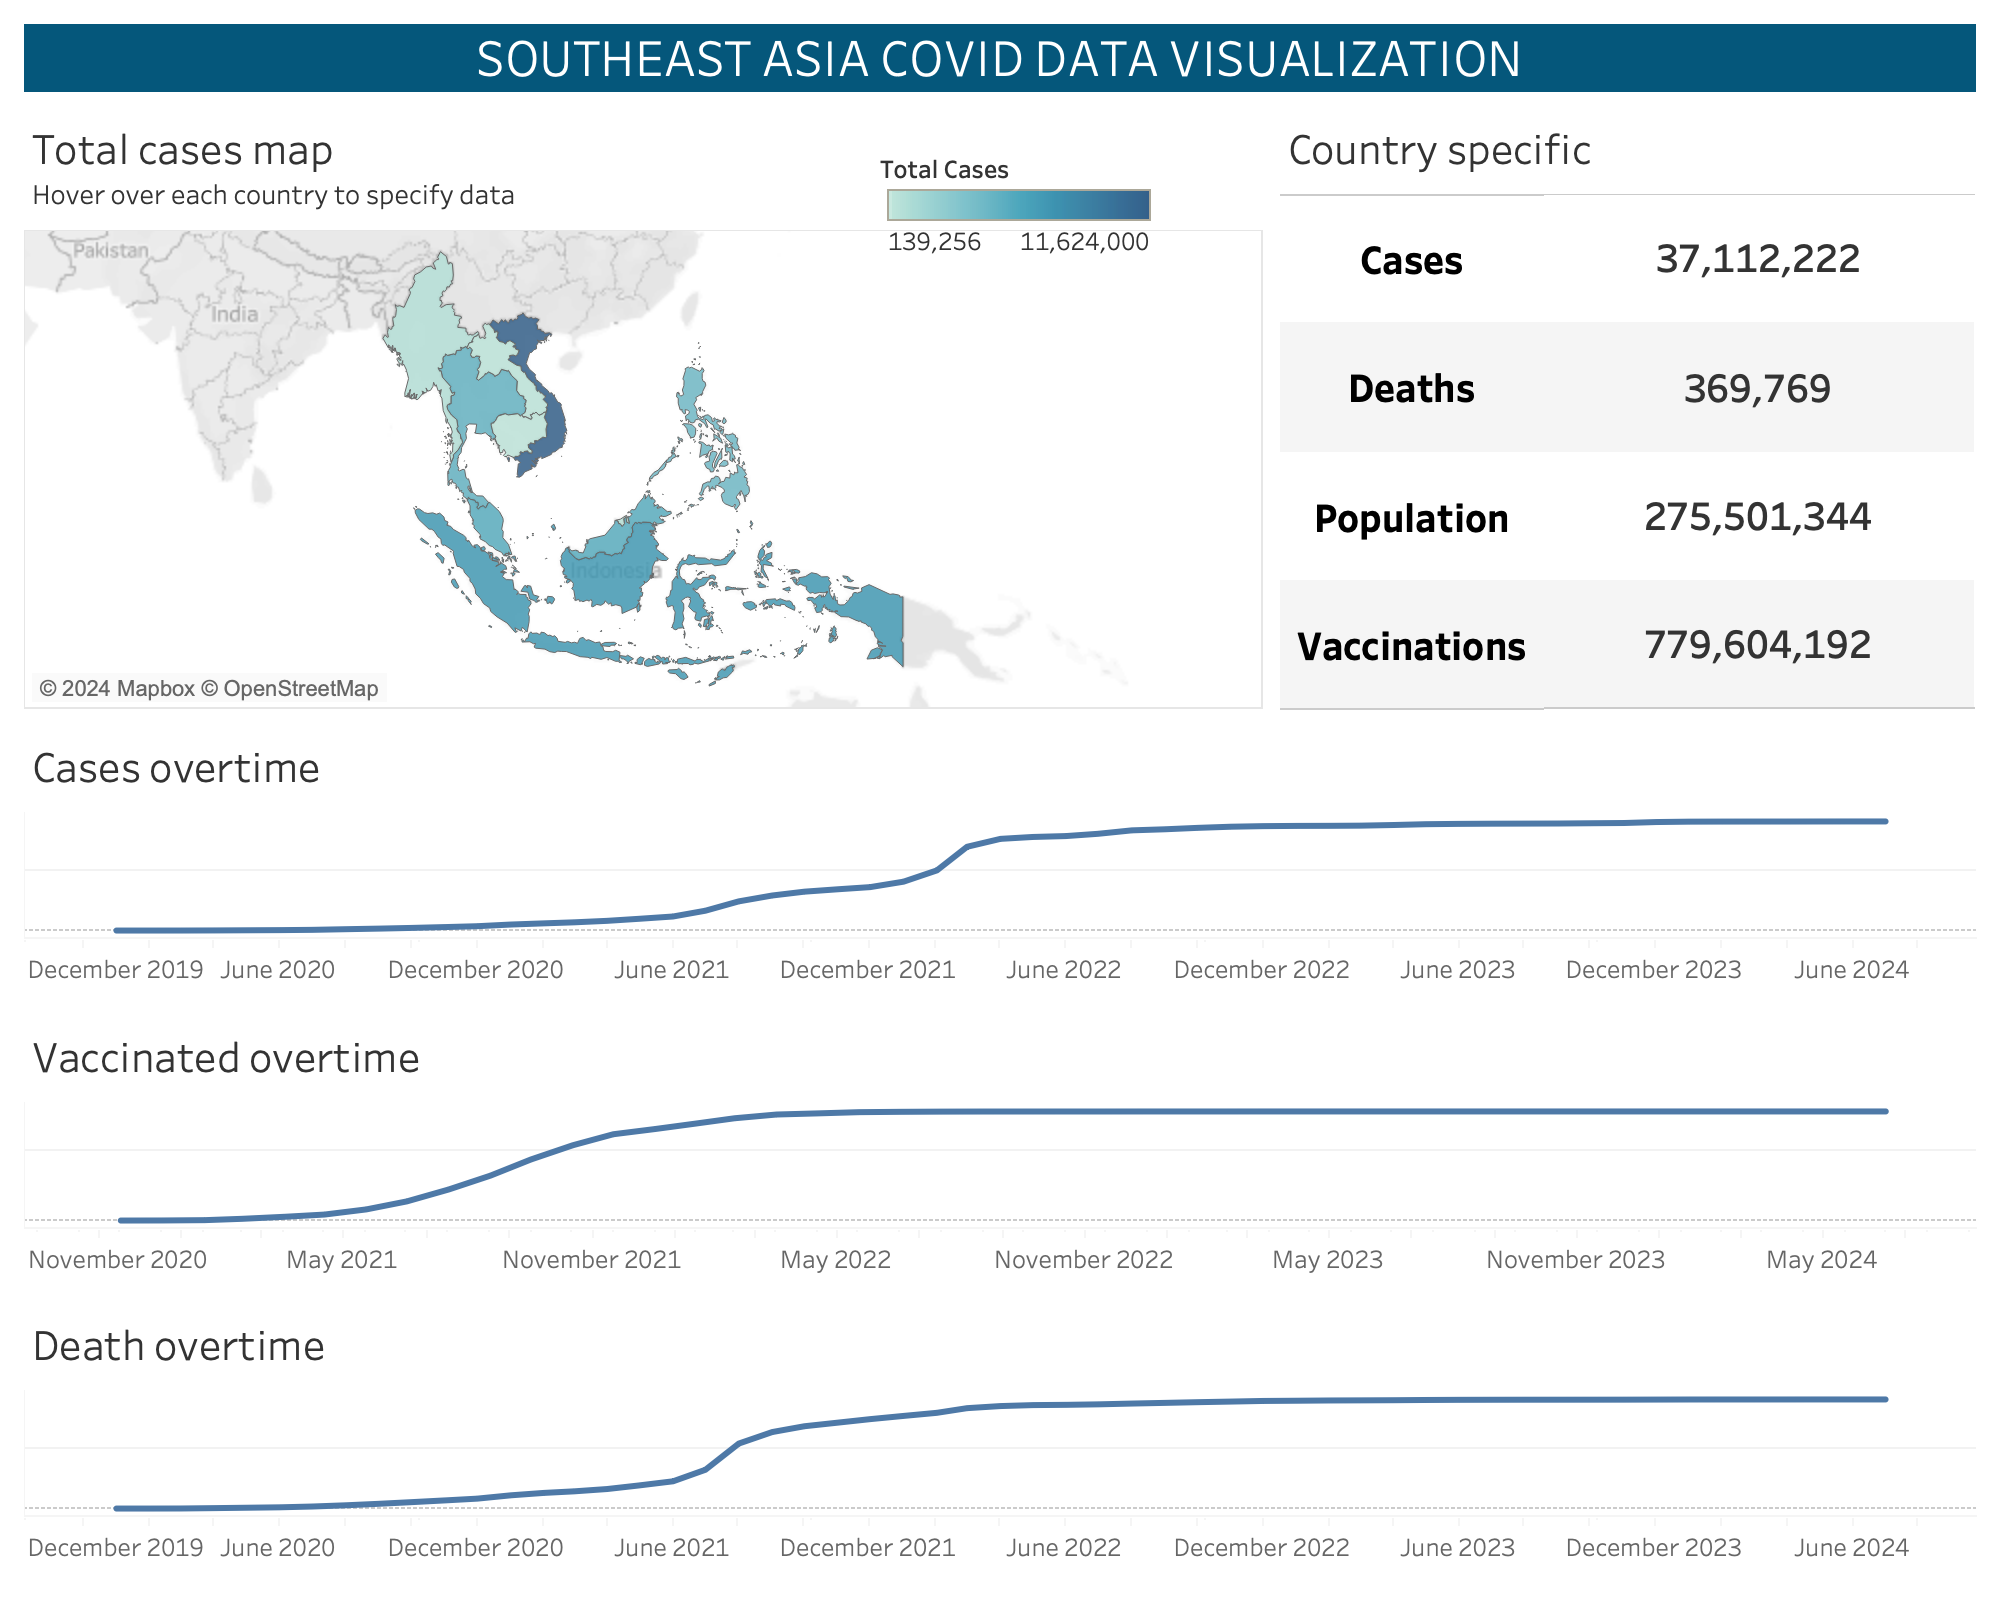

The dashboard page shown, as its layout file describes it:
{"tool":"tableau","page":{"name":"SOUTHEAST ASIA COVID DATA VISUALIZATION","canvas":[1000,800],"ordinal":0},"visuals":[{"type":"title","box":[8,8,984,42]},{"type":"worksheet","title":"Total cases map","mark":"Automatic","box":[8,50,628.1,309.5]},{"type":"worksheet","title":"Country specific","mark":"Automatic","box":[636.1,50,355.9,309.5]},{"type":"legend","title":"Total cases map","param":"[federated.0ngpxbc0lxe4xe171kygd0fti1ti].[max:total_cases:qk]","box":[440,72,140,76]},{"type":"worksheet","title":"Cases overtime","mark":"Automatic","rows":["new_cases"],"cols":["date"],"box":[8,359.5,984,144.2]},{"type":"worksheet","title":"Vaccinated overtime","mark":"Automatic","rows":["new_vaccinations"],"cols":["date"],"box":[8,503.6,984,144.2]},{"type":"worksheet","title":"Death overtime","mark":"Automatic","rows":["new_deaths"],"cols":["date"],"box":[8,647.8,984,144.2]}]}

Visuals, with their boxes in screenshot pixels (x1, y1, x2, y2), scaled from the page's 1000x800 canvas onto the 2000x1600 screenshot:
title: rect(16, 16, 1984, 100)
"Total cases map" worksheet: rect(16, 100, 1272, 719)
"Country specific" worksheet: rect(1272, 100, 1984, 719)
"Total cases map" legend: rect(880, 144, 1160, 296)
"Cases overtime" worksheet: rect(16, 719, 1984, 1007)
"Vaccinated overtime" worksheet: rect(16, 1007, 1984, 1296)
"Death overtime" worksheet: rect(16, 1296, 1984, 1584)
